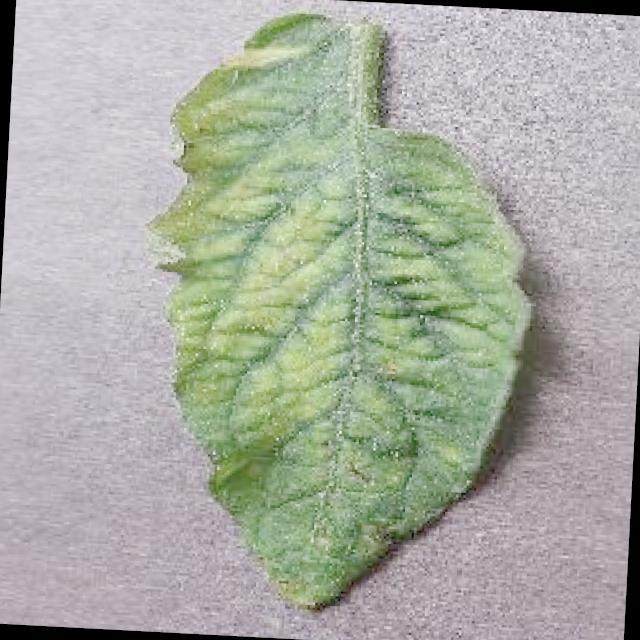Tomato mosaic virus leaf: (128, 2, 556, 622)
